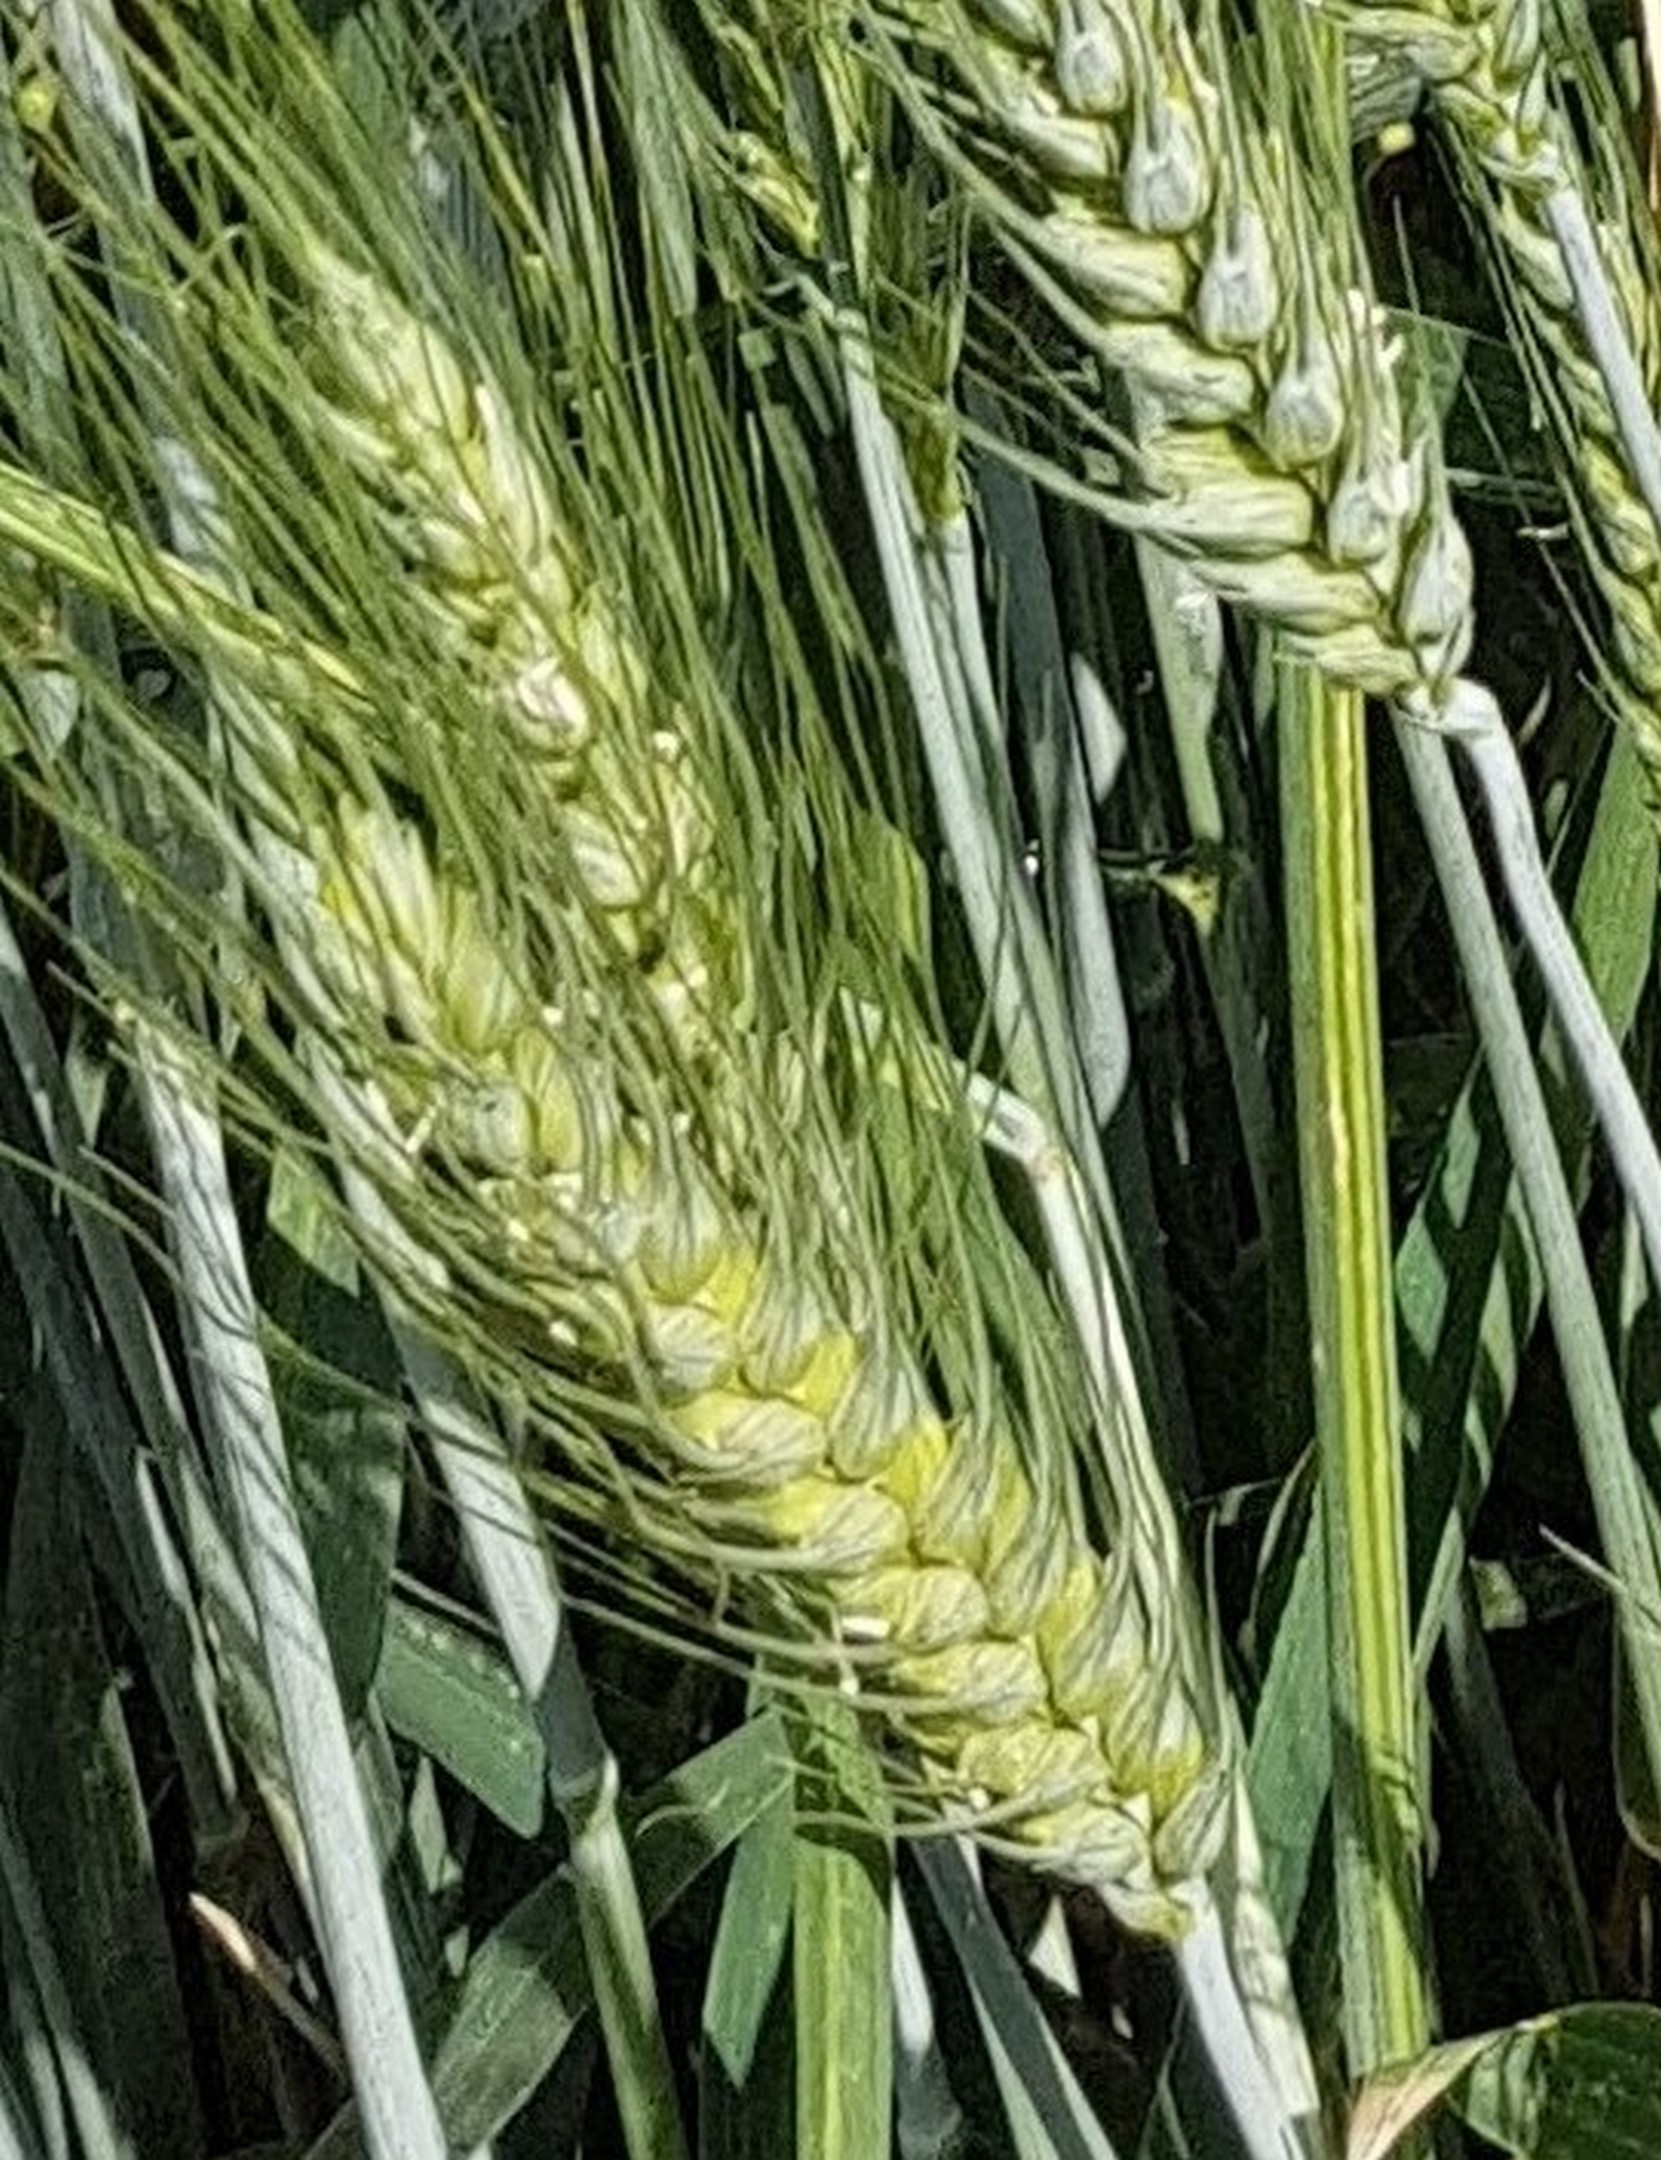Healthy Wheat: (272, 803, 1218, 1862)
